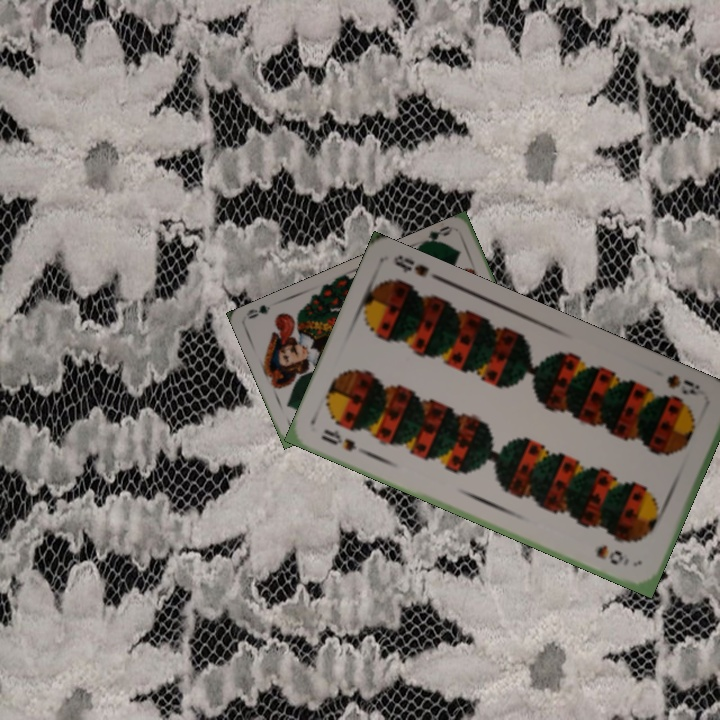GO: (418, 222, 455, 247)
S8: (317, 425, 370, 458), (663, 370, 707, 399)
